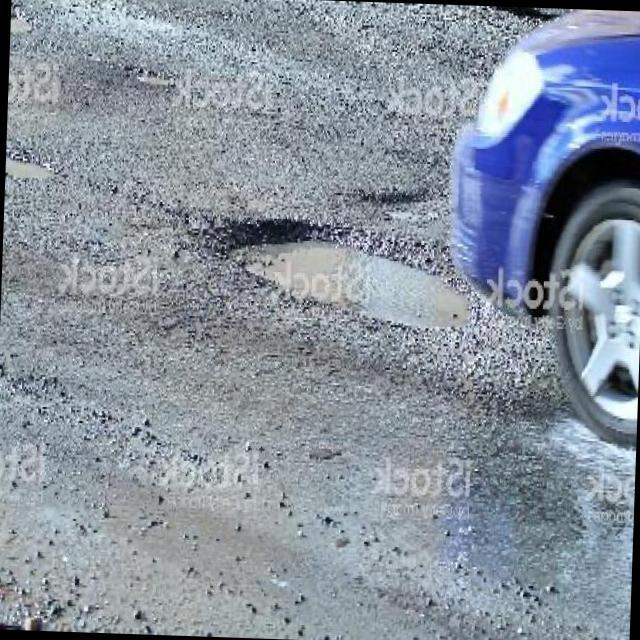Pothole: (248, 244, 468, 327), (362, 190, 419, 204)
